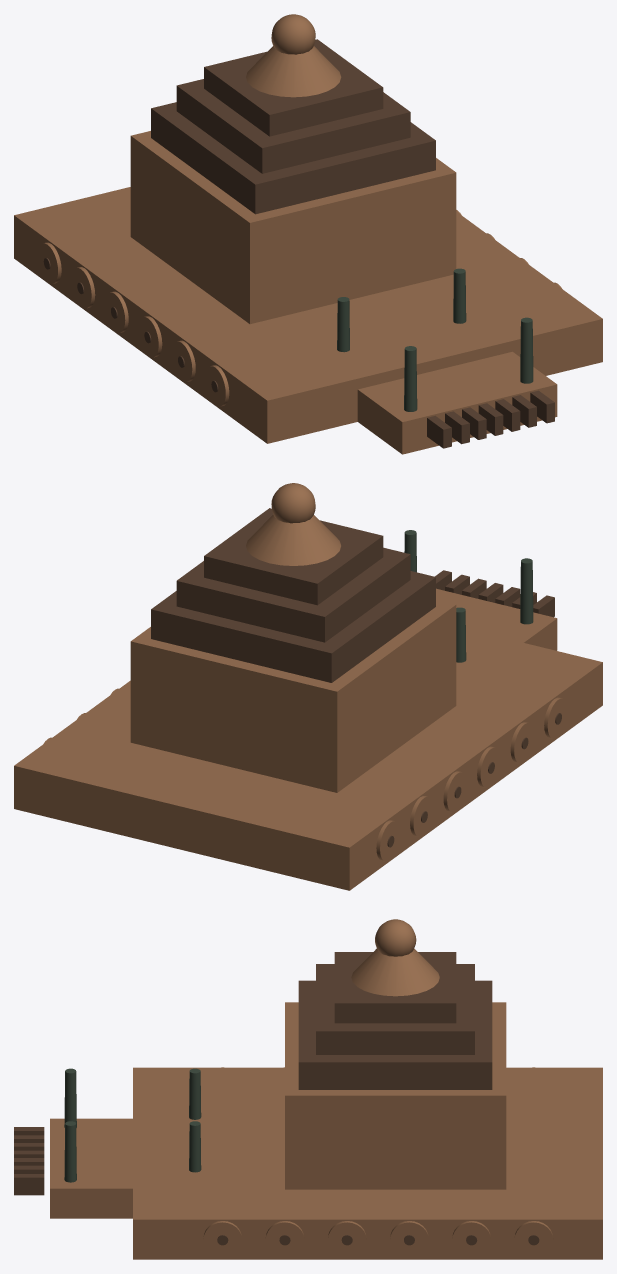
The model's file is konark_sun_temple.glb.
The picture shows the model from 3 angles, top to bottom: view 1: azimuth 30°, elevation 25°; view 2: azimuth 150°, elevation 25°; view 3: azimuth 270°, elevation 25°; orthographic projection. The views are drawn at different scales.
Parts seen in each view (by area): view 1: KonarkChariot; view 2: KonarkChariot; view 3: KonarkChariot.
Boxes of the visible parts, <box> form: KonarkChariot: <box>14,14,602,454</box>; KonarkChariot: <box>14,483,602,890</box>; KonarkChariot: <box>14,919,602,1259</box>.
Size of the model in its own units: 26.7 by 20.95 by 42.6.
